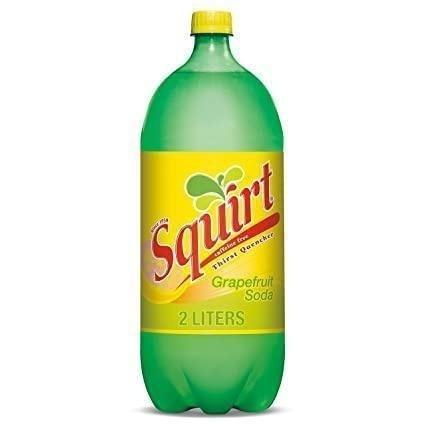bottle-plastic: (134, 3, 289, 420)
